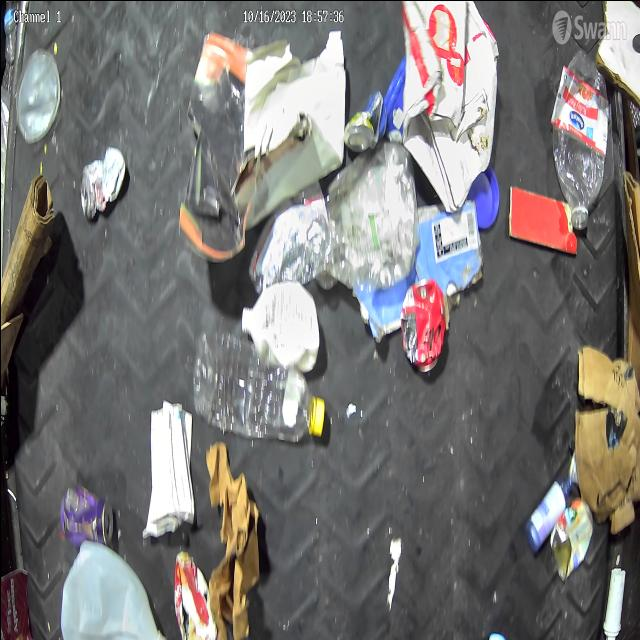can: (400, 280, 444, 372), (550, 495, 594, 580), (59, 482, 113, 548), (80, 146, 124, 220), (342, 84, 382, 152)
milk_jug: (60, 540, 166, 640), (240, 281, 318, 371)
non_white_jug: (357, 206, 482, 339)
plastic_bottle: (192, 326, 324, 442), (552, 48, 608, 225), (3, 0, 15, 62)
